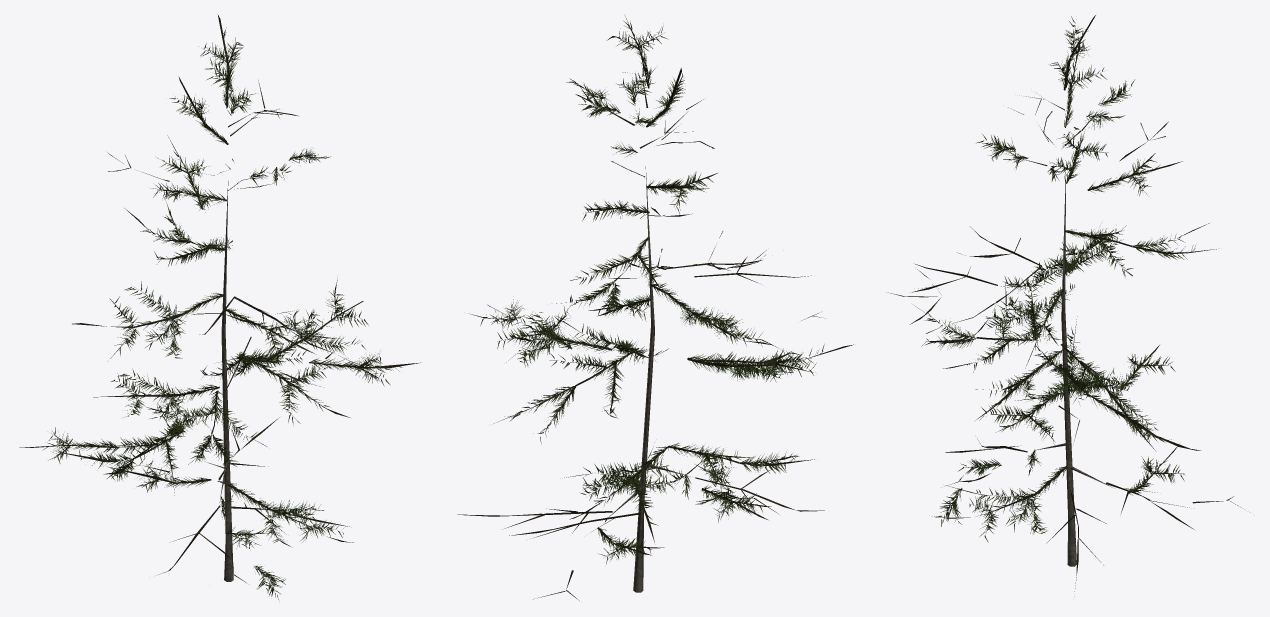
The model's file is fir_sapling_a.glb.
3 renders of one model, left to right at view 1: azimuth 30°, elevation 25°; view 2: azimuth 150°, elevation 25°; view 3: azimuth 270°, elevation 25°, orthographic. The views are drawn at different scales.
Parts seen in each view (by area): view 1: fir_sapling_a__lodS; view 2: fir_sapling_a__lodS; view 3: fir_sapling_a__lodS.
Part boxes in pixels (x1=…): fir_sapling_a__lodS: x1=19, y1=14, x2=420, y2=599; fir_sapling_a__lodS: x1=457, y1=16, x2=853, y2=600; fir_sapling_a__lodS: x1=887, y1=15, x2=1241, y2=591.
Size of what is drawn, in the model's own units: 0.7748 by 1.25 by 0.7666.
2 materials, 2 textured.
